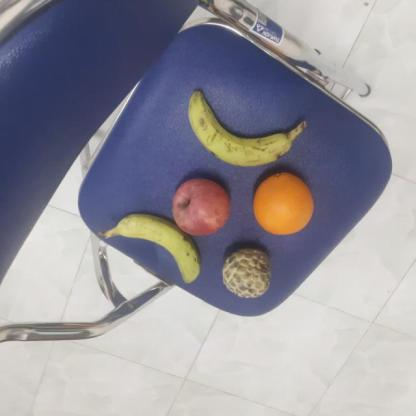annona: (219, 247, 273, 302)
apple: (170, 176, 234, 238)
banana: (186, 86, 300, 169), (114, 212, 205, 286)
orange: (253, 171, 316, 238)
